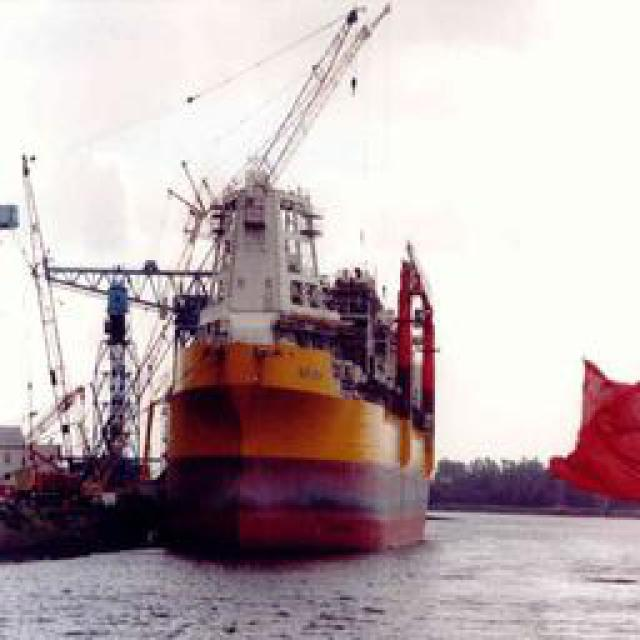Ship: (28, 103, 446, 548)
